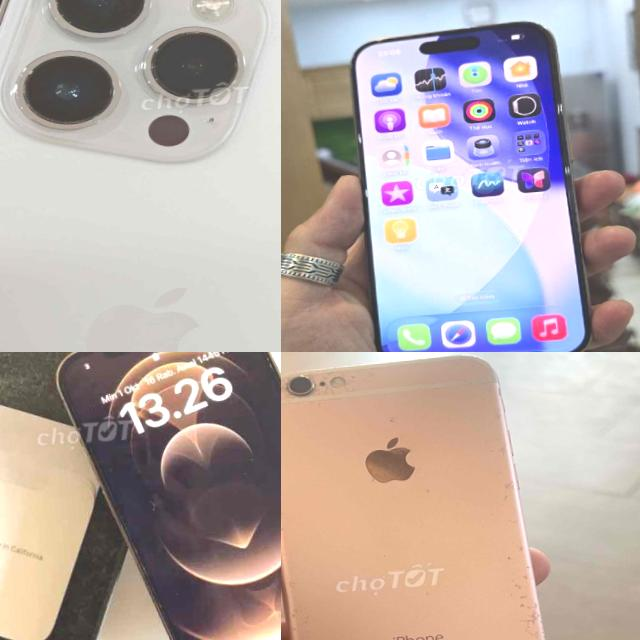gen_12_13: (46, 352, 281, 640)
gen_14: (0, 0, 281, 352)
gen_15: (339, 6, 620, 352)
gen_6: (281, 355, 545, 640)
physical_damage: (110, 513, 181, 640), (230, 352, 279, 373), (74, 352, 145, 361)
scratch: (481, 422, 568, 640), (281, 355, 382, 404), (281, 563, 319, 640)
